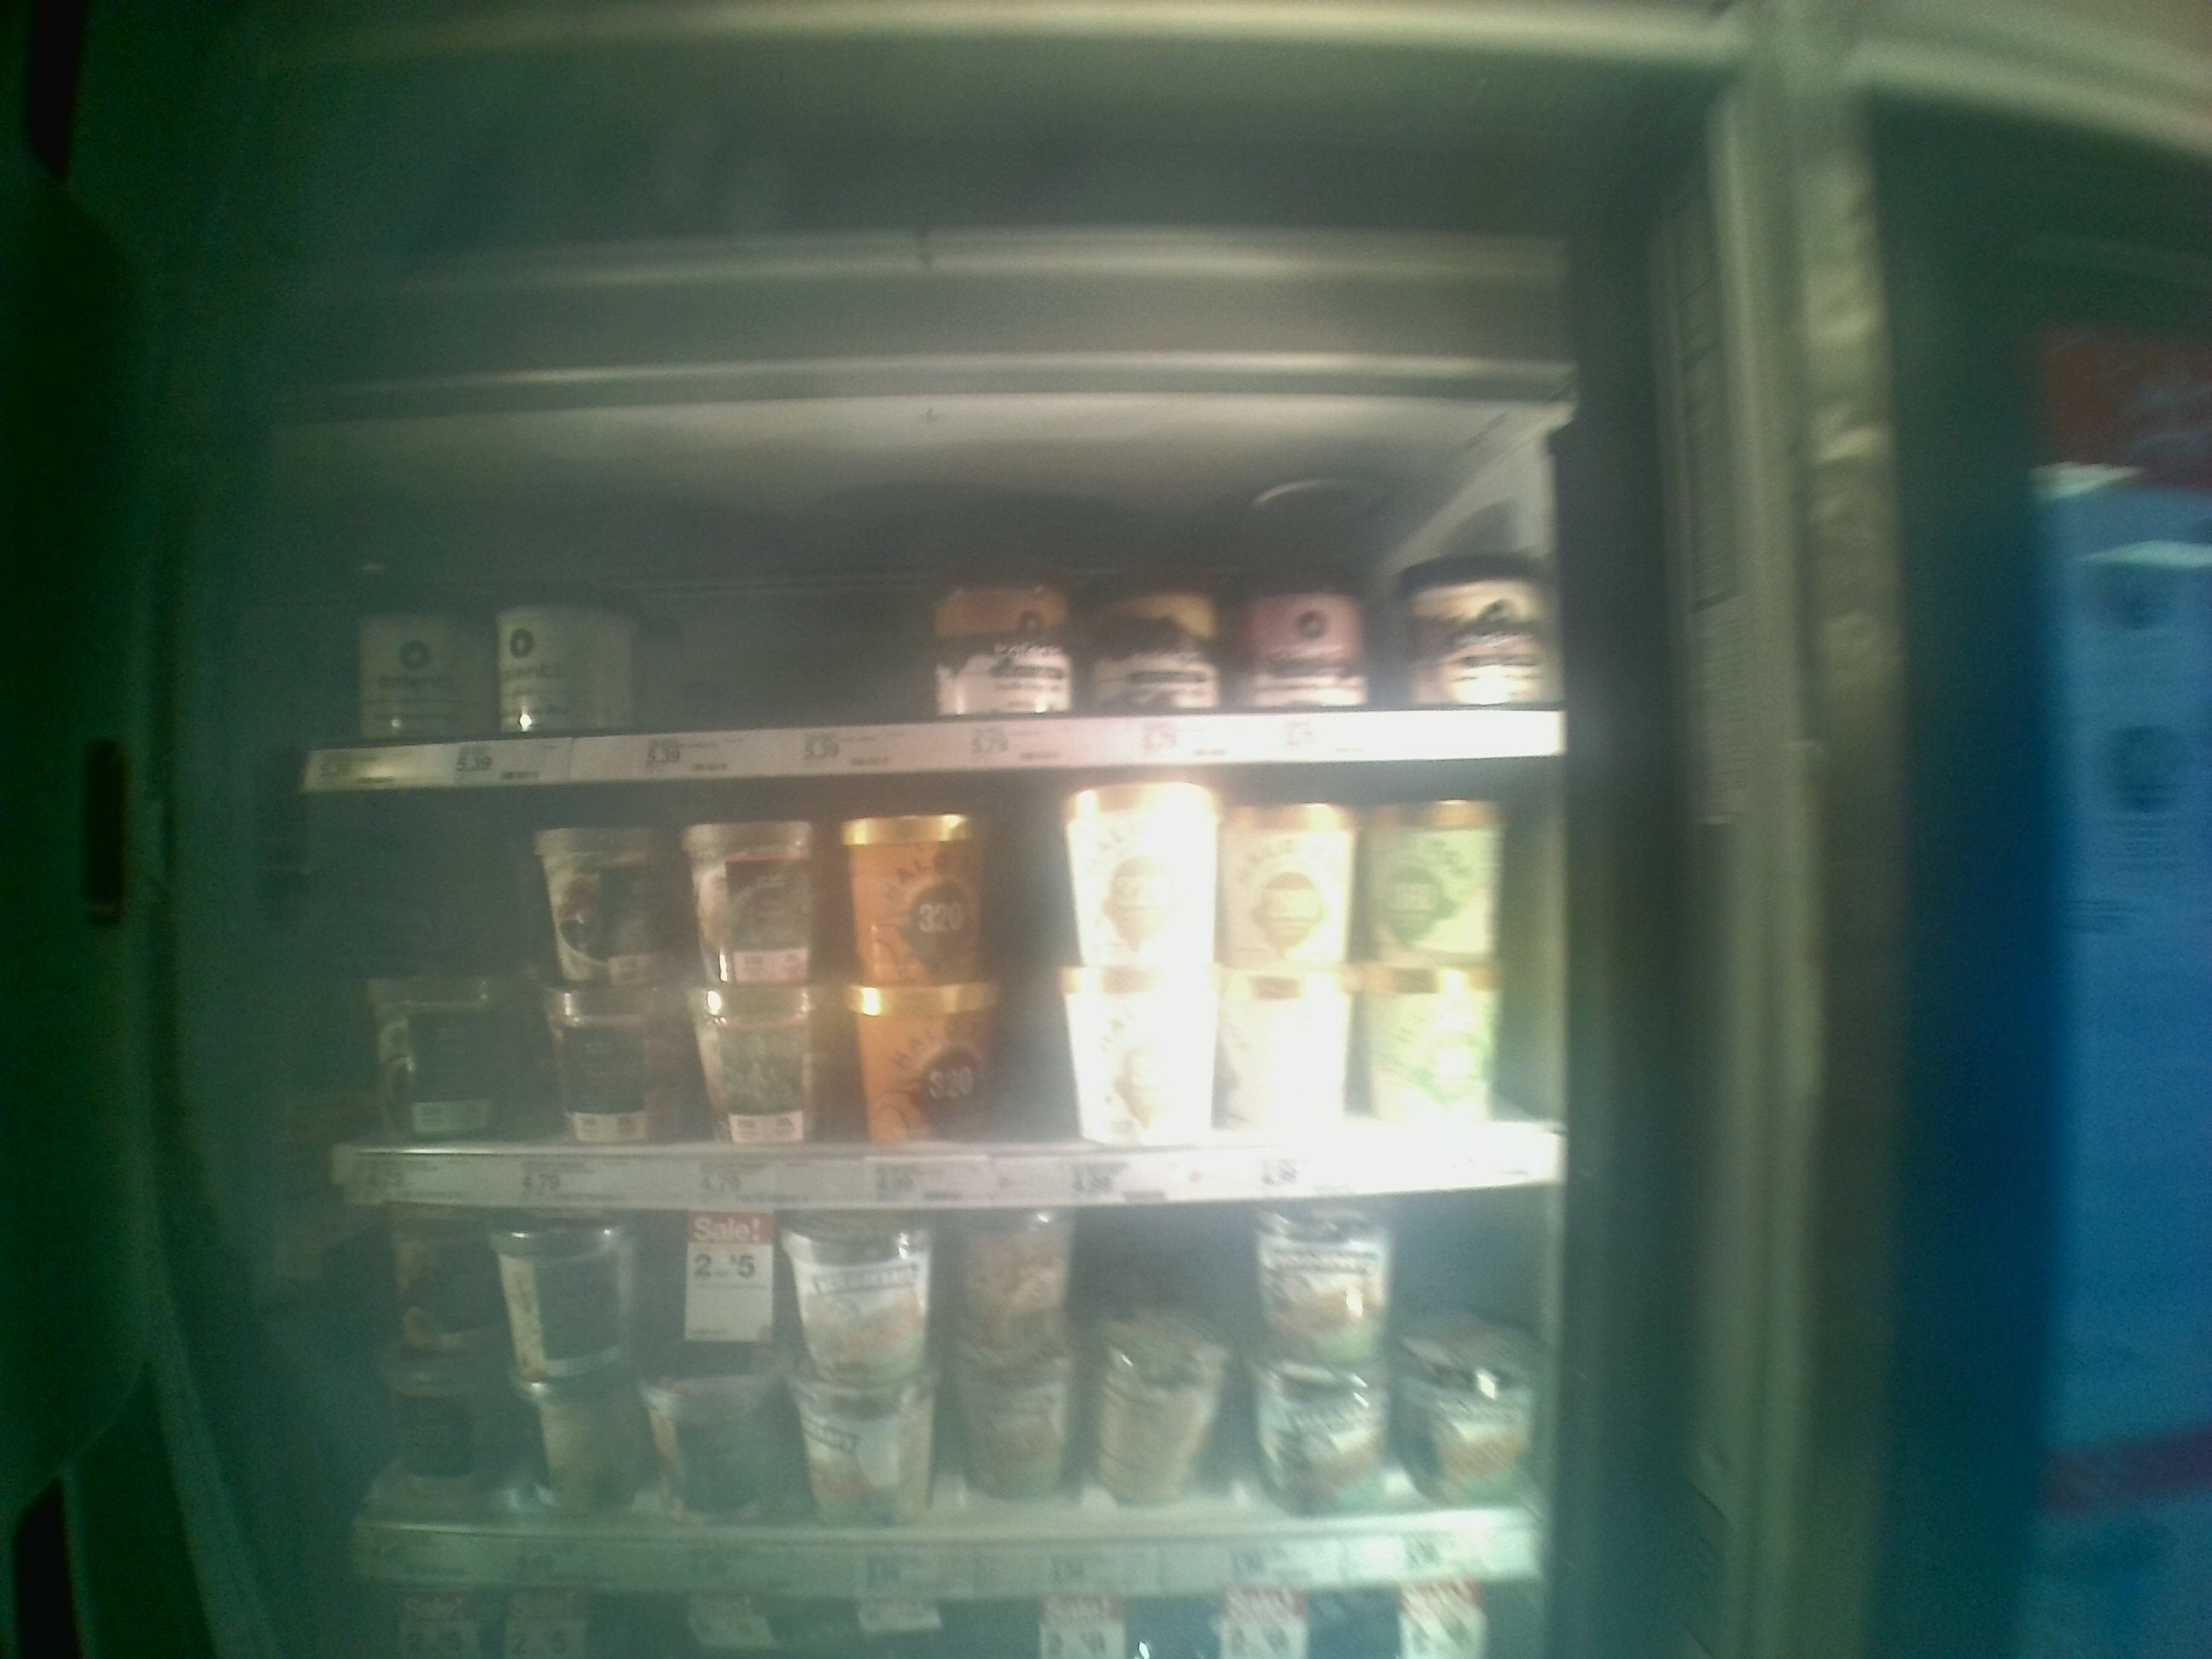shelf: (307, 782, 1569, 1201), (308, 1206, 1561, 1593), (308, 446, 1555, 782)
